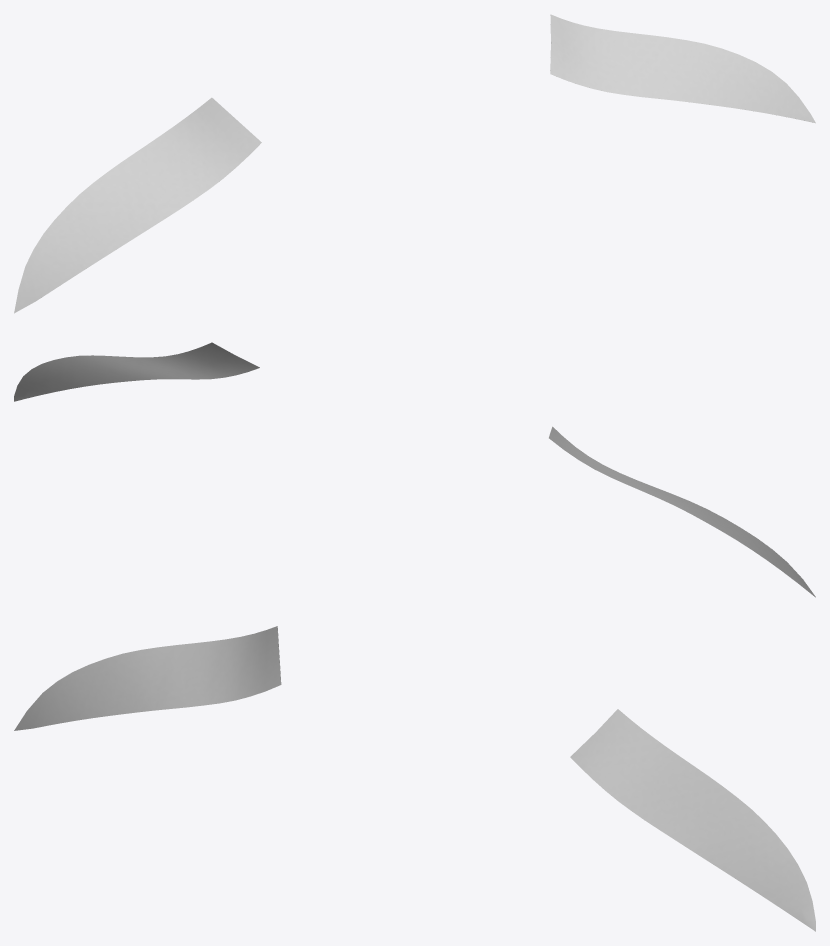
Rendered from Jac_COP_TOP.glb.
3 renders of one model, top to bottom at view 1: azimuth 30°, elevation 25°; view 2: azimuth 150°, elevation 25°; view 3: azimuth 330°, elevation 25°, orthographic.
Parts seen in each view (by area): view 1: Jac_COP_TOP1; view 2: Jac_COP_TOP1; view 3: Jac_COP_TOP1.
Boxes of the visible parts, x1,y1,x2,y2 form: Jac_COP_TOP1: (14, 14, 815, 313); Jac_COP_TOP1: (14, 342, 815, 597); Jac_COP_TOP1: (14, 626, 815, 931).
Bounding box in the file's own units: 0.631 × 0.1059 × 0.0509.
Materials: 1 (1 with a texture image).
